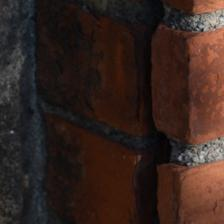Crack: (62, 5, 118, 216)
